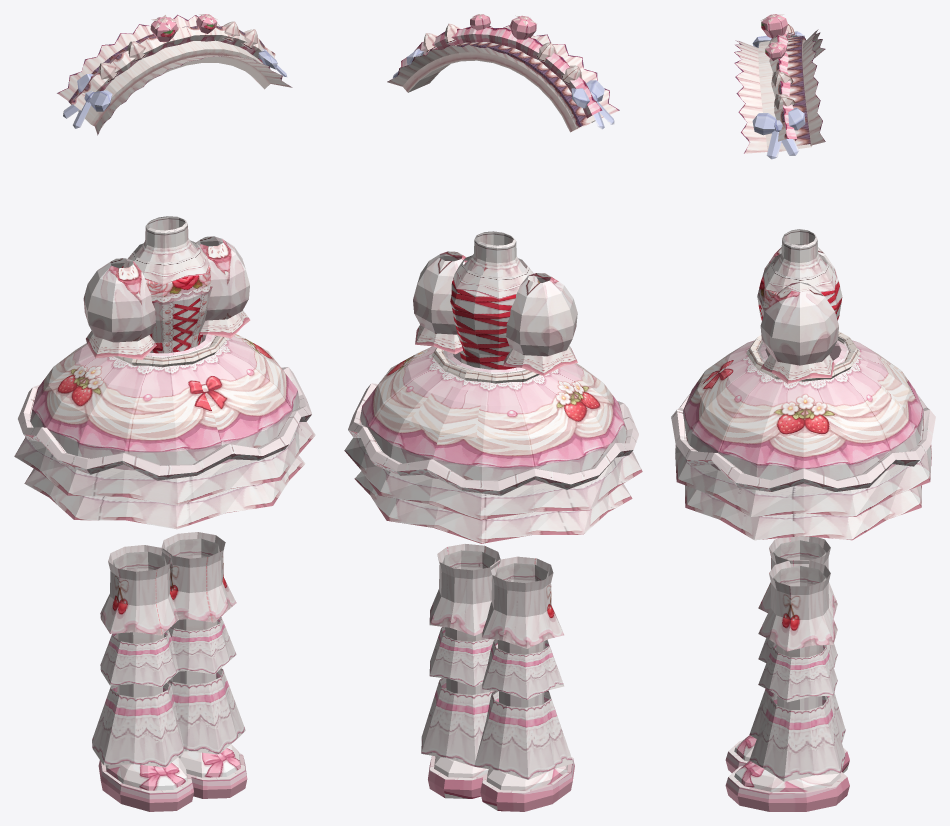
Rendered from outfit_all.obj.
3 views of the same model, side by side, from view 1: azimuth 30°, elevation 25°; view 2: azimuth 150°, elevation 25°; view 3: azimuth 270°, elevation 25° (orthographic).
Visible parts, largest first — view 1: skirt, legwear, top, headdress, shoes; view 2: skirt, legwear, top, headdress, shoes; view 3: skirt, legwear, top, headdress, shoes.
Part boxes in pixels (x1,y1,x2,y2): skirt: (14, 334, 315, 529); legwear: (92, 532, 245, 767); top: (83, 216, 250, 359); headdress: (57, 14, 292, 135); shoes: (98, 744, 247, 811); skirt: (344, 346, 642, 543); legwear: (421, 544, 573, 779); top: (413, 231, 577, 375); headdress: (387, 14, 619, 132); shoes: (428, 755, 574, 811); skirt: (671, 331, 935, 540); legwear: (749, 536, 845, 781); top: (757, 229, 842, 383); headdress: (734, 14, 825, 159); shoes: (725, 735, 849, 811).
Bounding box in the file's own units: 0.4837 × 1.39 × 0.4382.
Materials: 5 (5 with a texture image).
